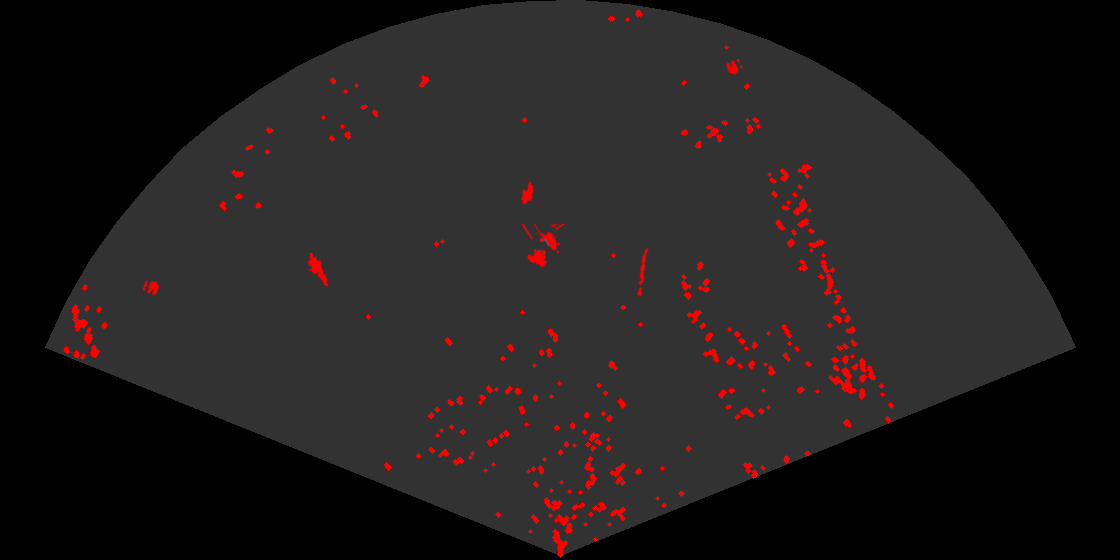AUV: (519, 180, 535, 206)
ball: (724, 57, 745, 76), (141, 279, 161, 297)
cage: (520, 224, 567, 269)
chain: (635, 246, 650, 297)
frogman: (306, 253, 330, 288)
